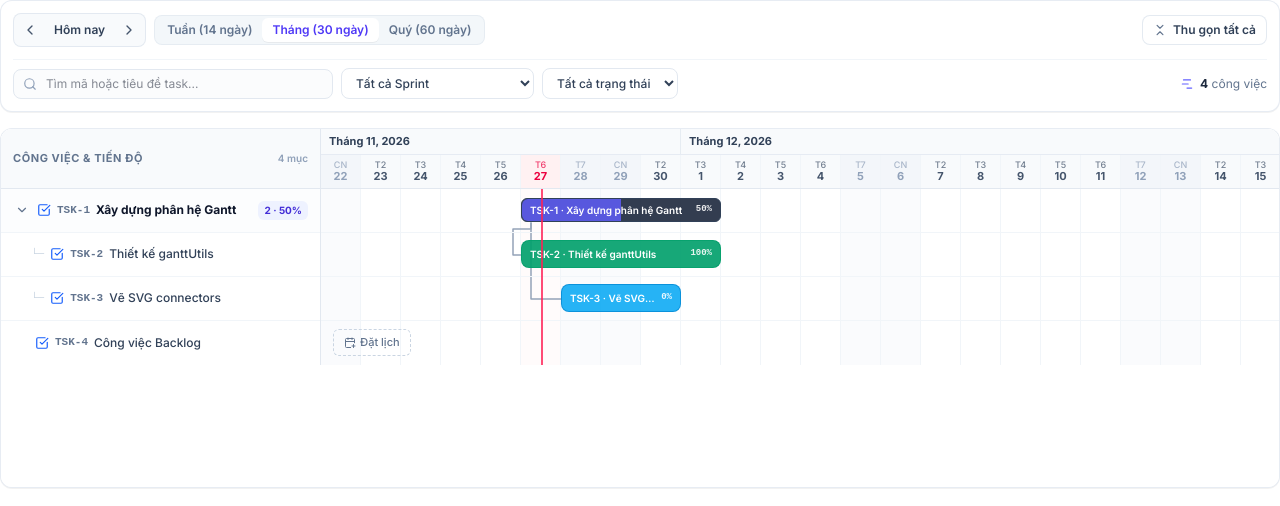
Test: GanttView - Component Tests › 2. Thu gọn và mở rộng nhánh Task cha ẩn/hiện đúng các Task con
Expected: the text "Thiết kế ganttUtils" is shown, 109,246 -> 214,261
# Thu gọn TSK-1
Step 1. Click the button named "Thu gọn TSK-1" → click(22, 210), box 13,201 -> 31,219
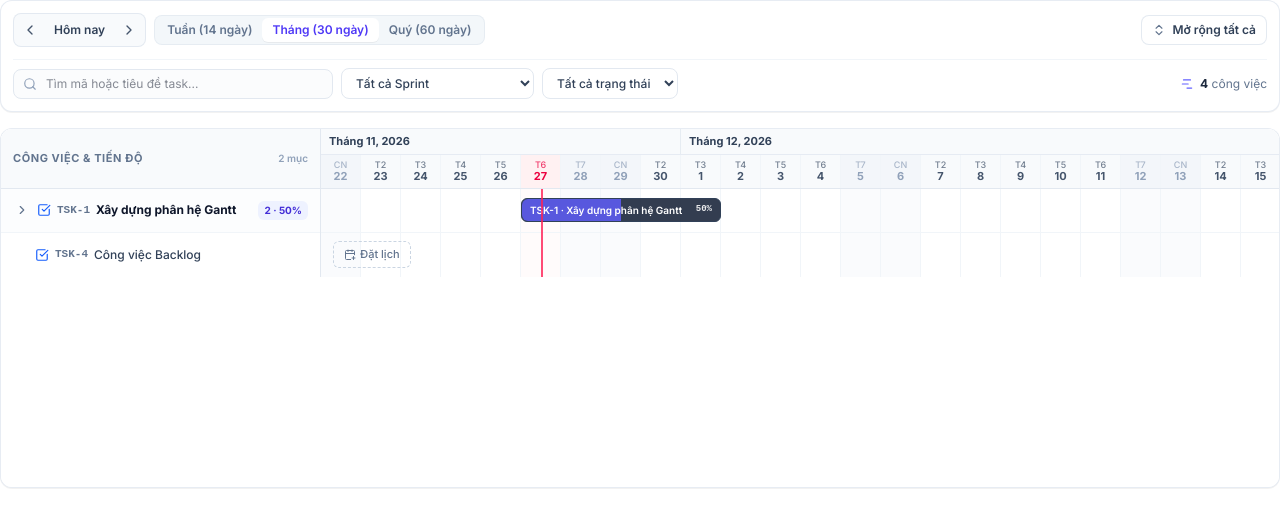
Expected: the text "Thiết kế ganttUtils" is gone
Expected: the text "Vẽ SVG connectors" is gone
# Mở rộng lại TSK-1
Step 2. Click the button named "Mở rộng TSK-1" → click(22, 210), box 13,201 -> 31,219
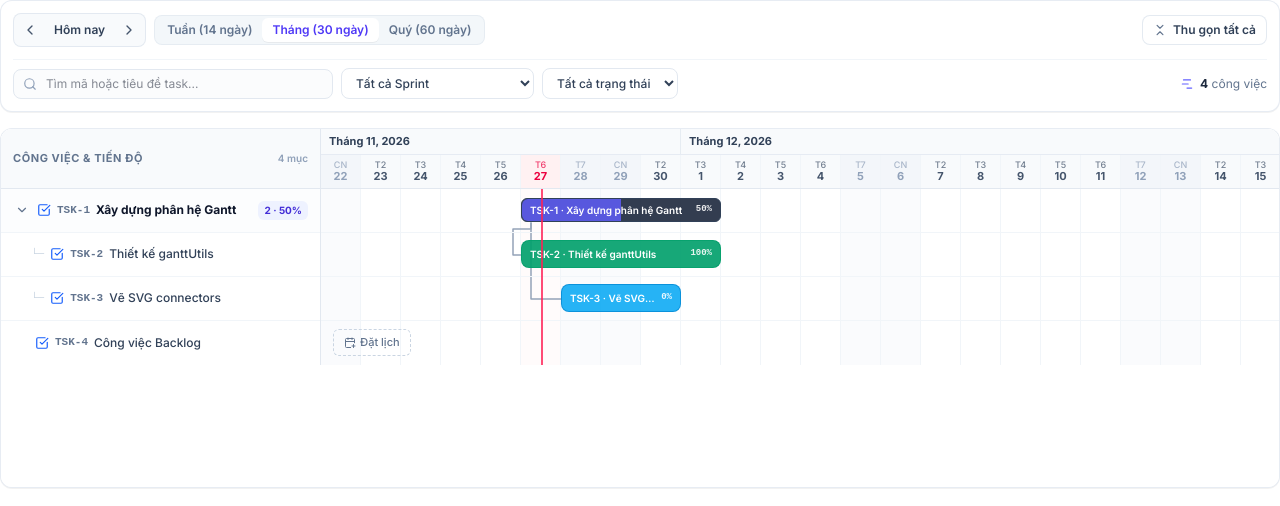
Expected: the text "Thiết kế ganttUtils" is shown, 109,246 -> 214,261
Expected: the text "Vẽ SVG connectors" is shown, 109,290 -> 221,305
